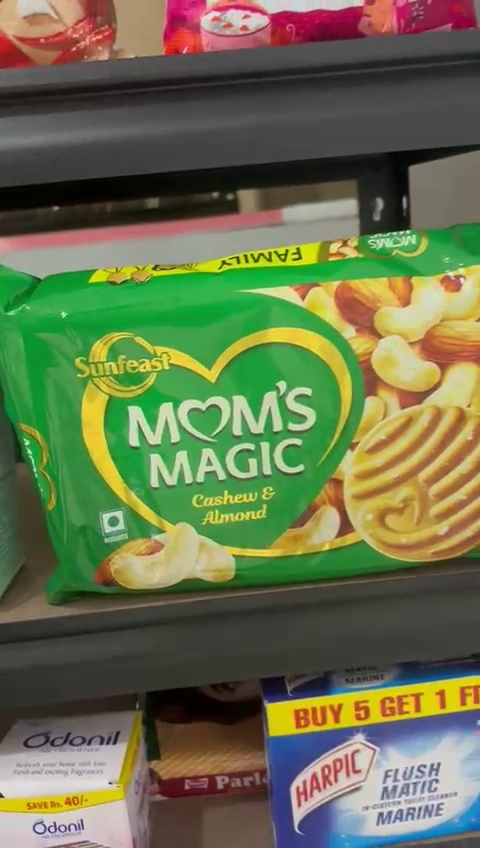Moms magic: (0, 268, 480, 584)
